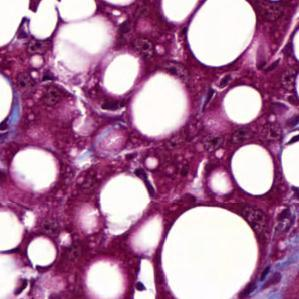steatosis: (163, 207, 259, 298), (186, 0, 257, 68), (229, 144, 275, 196), (222, 86, 263, 126)
